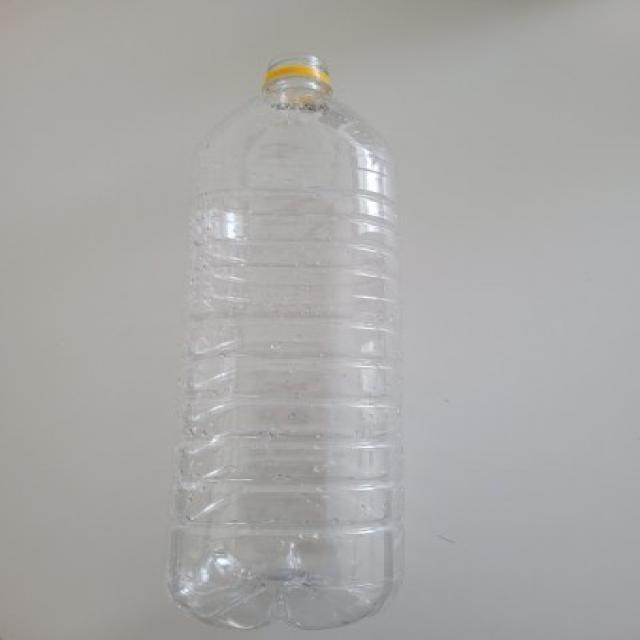plastic_bottle: (169, 52, 399, 630)
